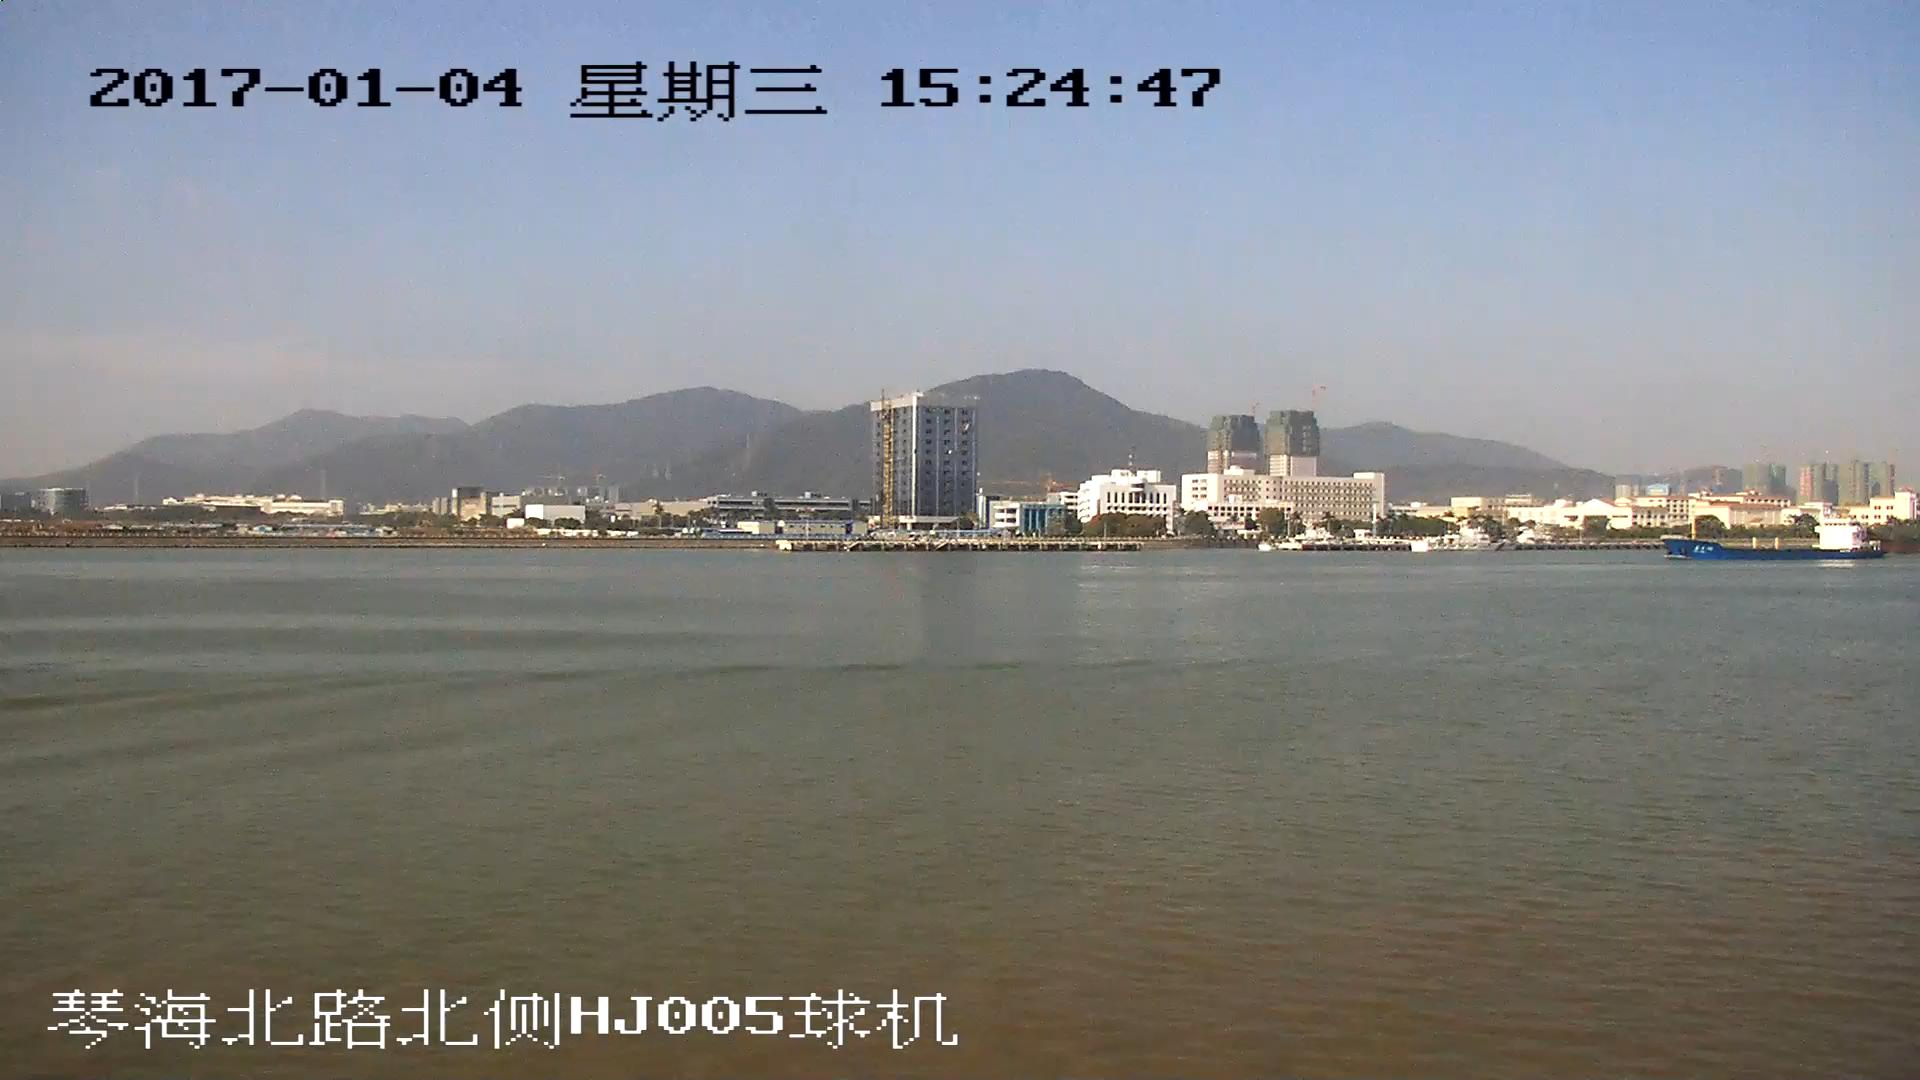general cargo ship: (1665, 513, 1883, 563)
